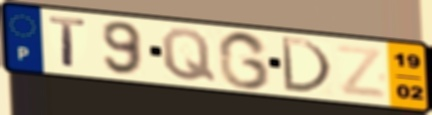9: (100, 20, 145, 77)
D: (278, 35, 335, 96)
G: (216, 30, 272, 92)
Q: (159, 27, 219, 85)
T: (46, 14, 89, 71)
Z: (333, 43, 390, 101)
